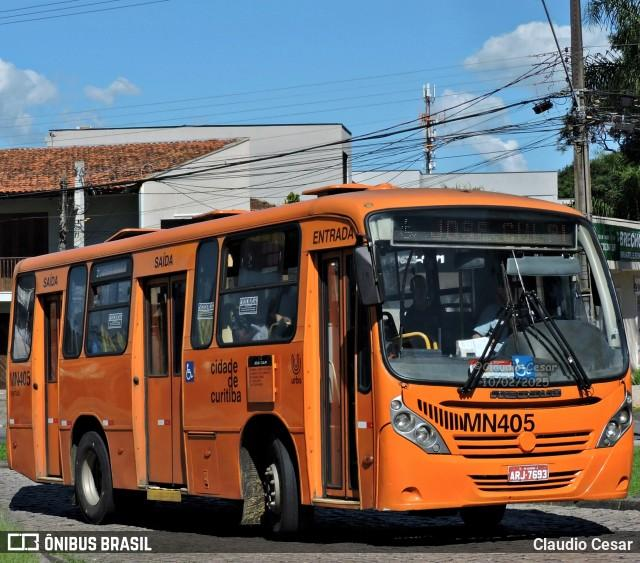JOSE CULPI: (425, 212, 572, 249)
